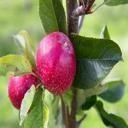apple: (35, 31, 76, 95)
